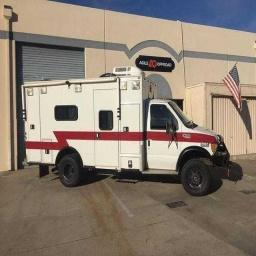Ambulance: (23, 67, 228, 195)
